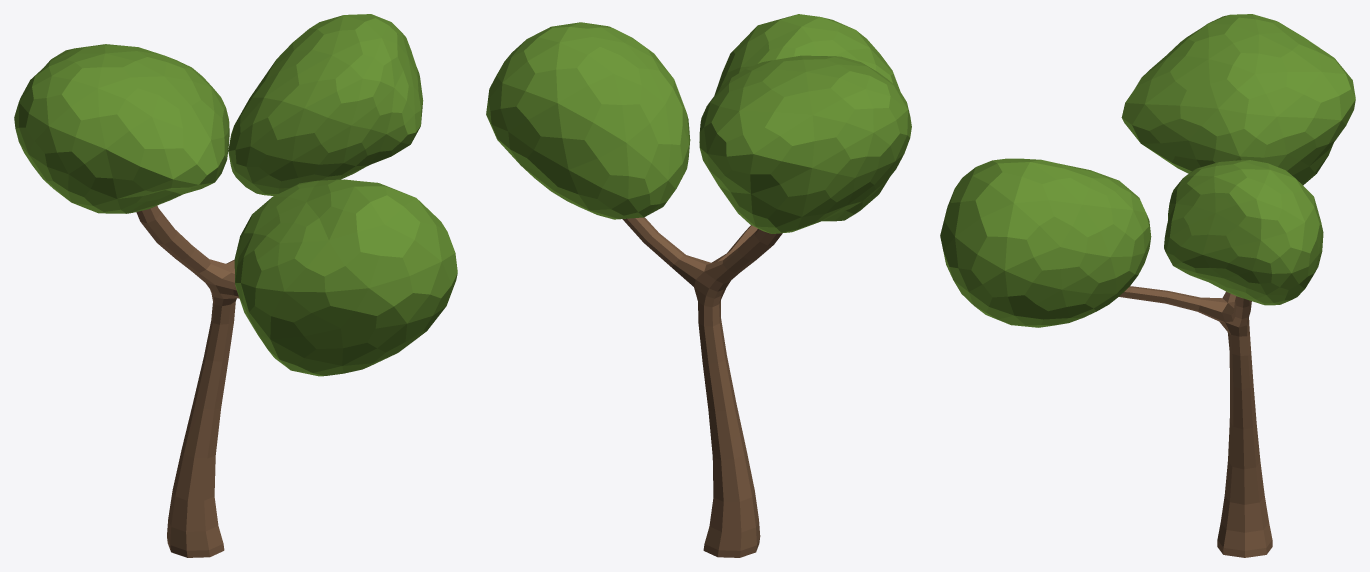
The model's file is tree-lowpoly-1.fbx.
The picture shows the model from 3 angles, left to right: view 1: azimuth 30°, elevation 25°; view 2: azimuth 150°, elevation 25°; view 3: azimuth 270°, elevation 25°; orthographic projection. The views are drawn at different scales.
Visible parts, largest first — view 1: leaves, tree; view 2: leaves, tree; view 3: leaves, tree.
Part boxes in pixels (bbox=[...]): leaves: bbox=[14, 14, 457, 376]; tree: bbox=[136, 206, 239, 557]; leaves: bbox=[486, 14, 911, 233]; tree: bbox=[622, 217, 782, 557]; leaves: bbox=[940, 14, 1355, 327]; tree: bbox=[1119, 286, 1272, 557].
Bounding box in the file's own units: 2250 × 2746 × 2166.
